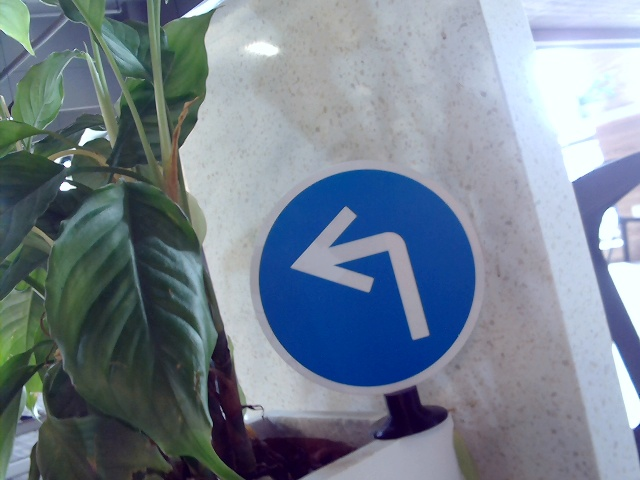turn_left: (289, 208, 439, 346)
